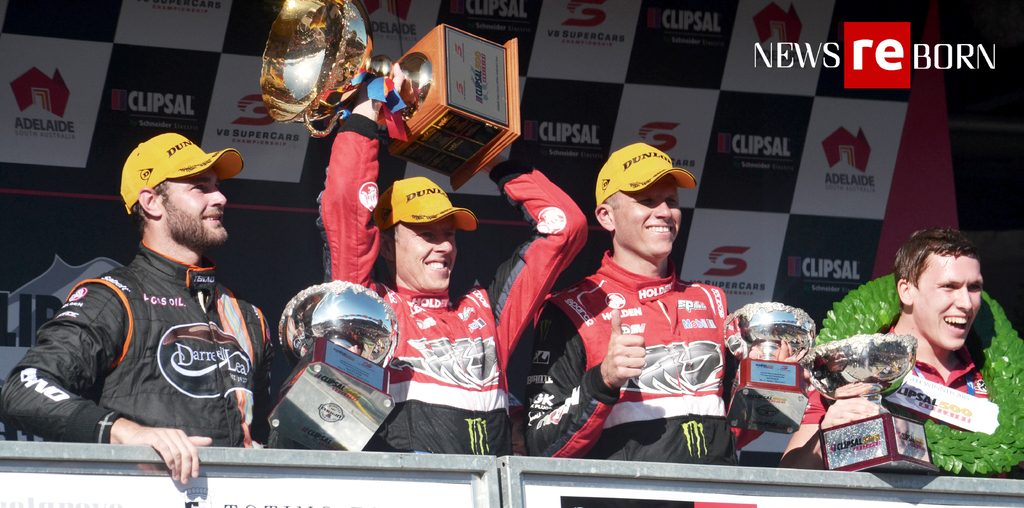Person: (0, 131, 358, 485), (316, 62, 589, 455), (526, 142, 799, 508), (779, 227, 1024, 477)
